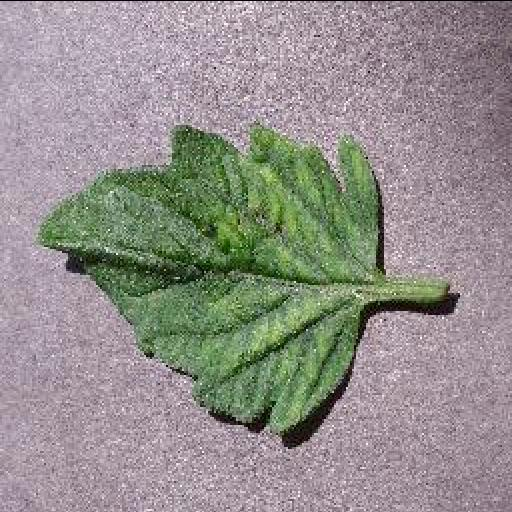disease_tomato: (36, 122, 386, 434)
